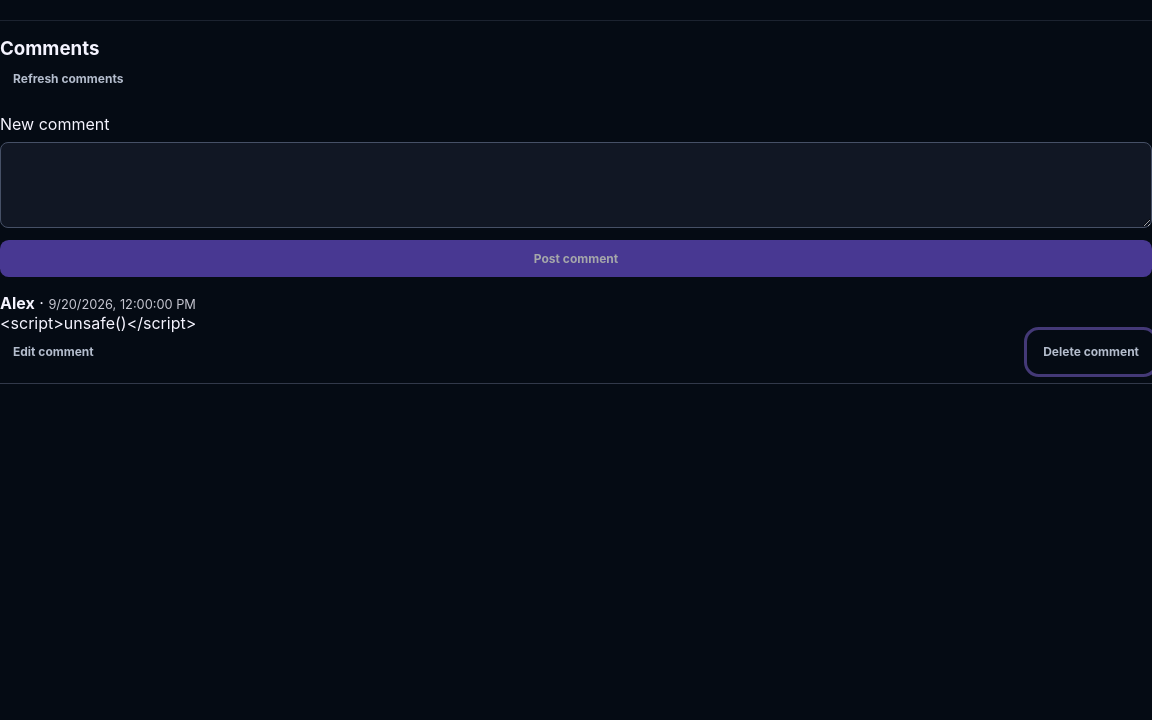
Test: requires confirmation before deleting a comment and allows cancellation
Click the button "Delete comment": [1091, 352] box [1030,333,1151,371]
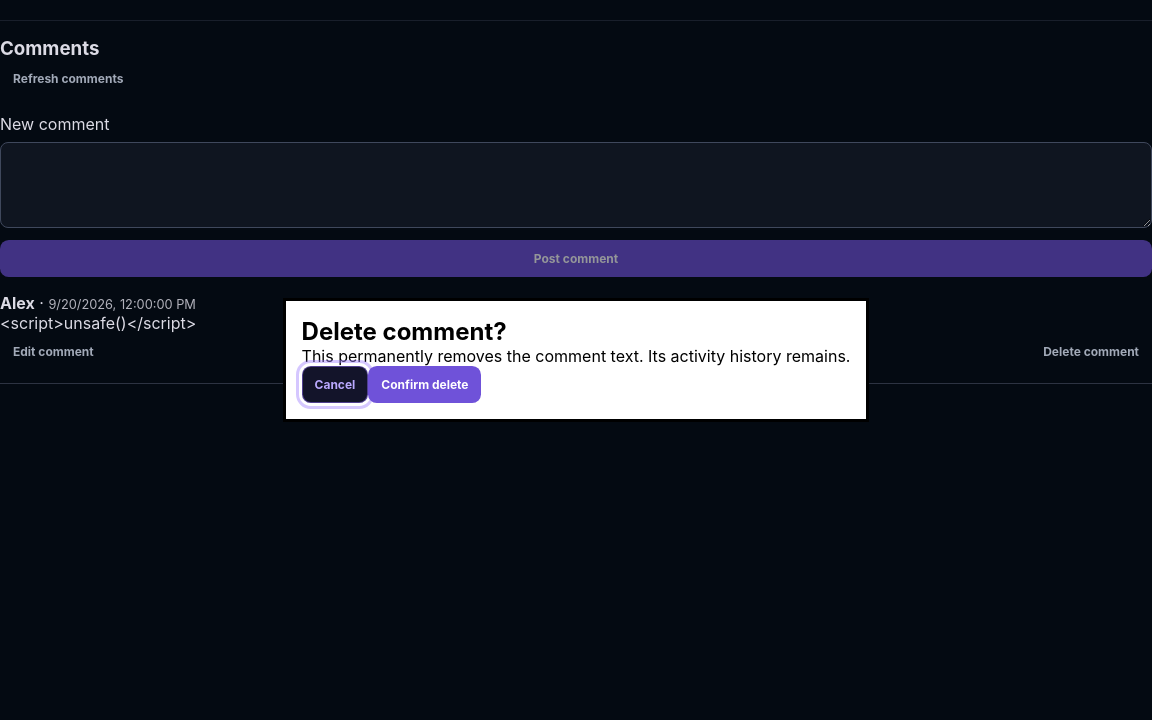
Click the button "Cancel": [335, 384] box [302,366,368,403]
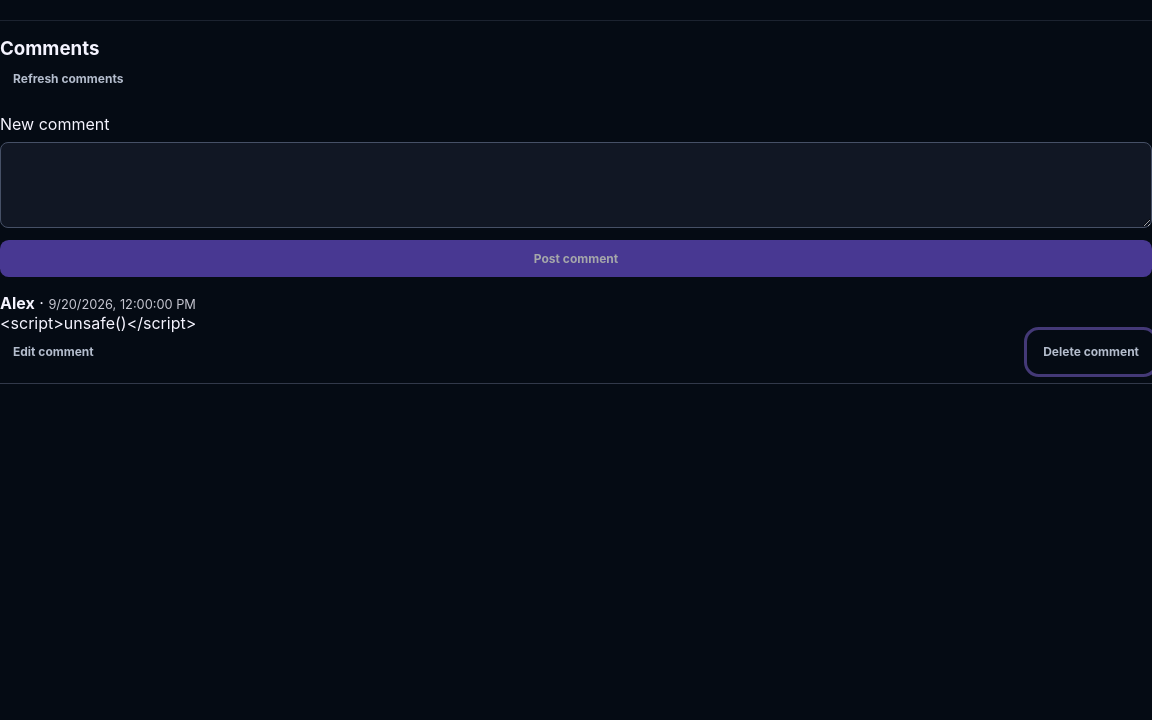
Click the button "Delete comment": [1091, 352] box [1030,333,1151,371]
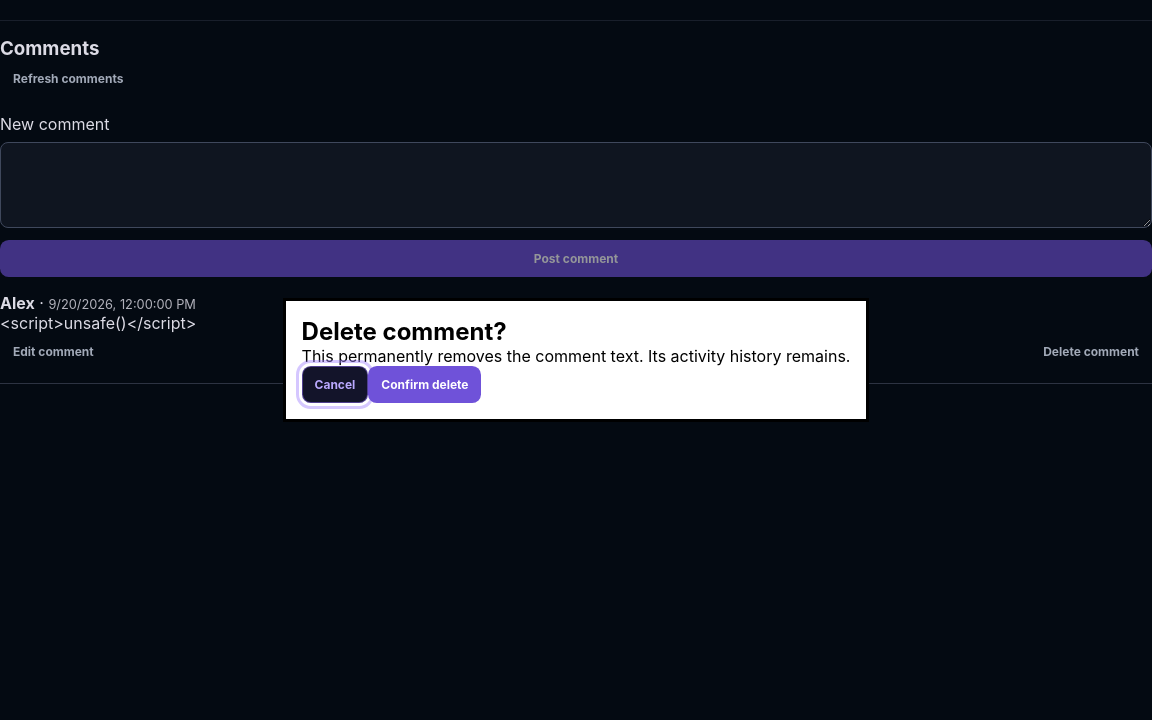
Click the button "Confirm delete": [425, 384] box [368,366,481,403]
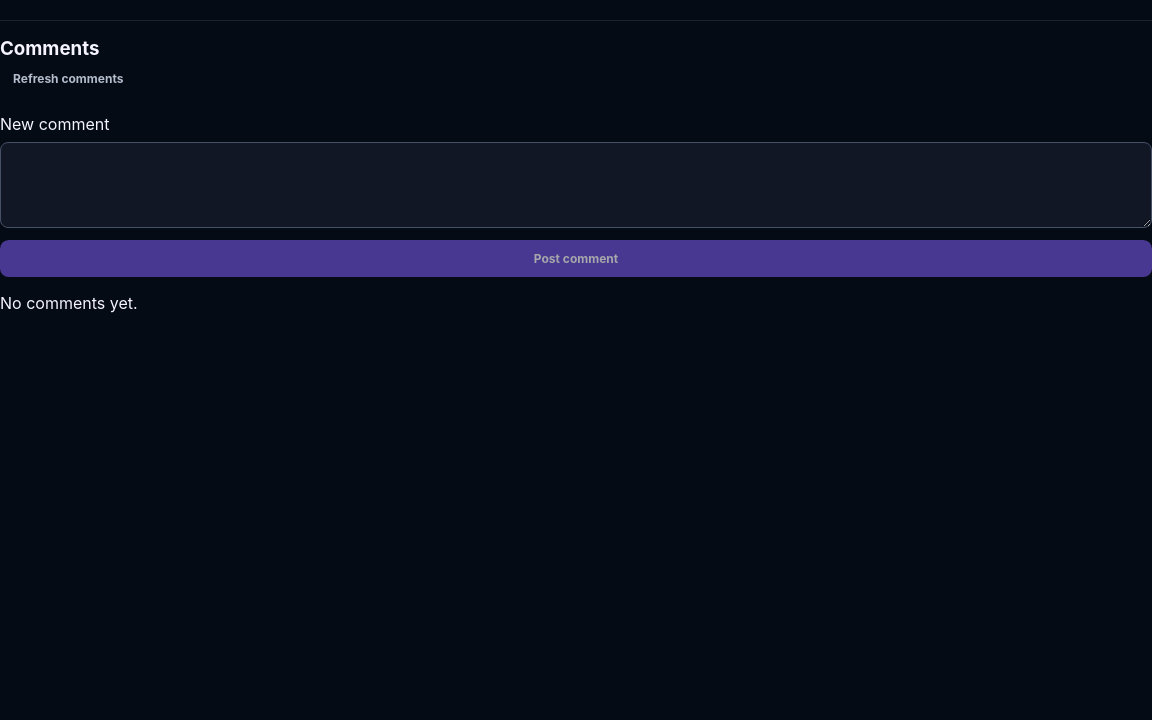
Result: the text "No comments yet." is shown at [0,293,138,313]
